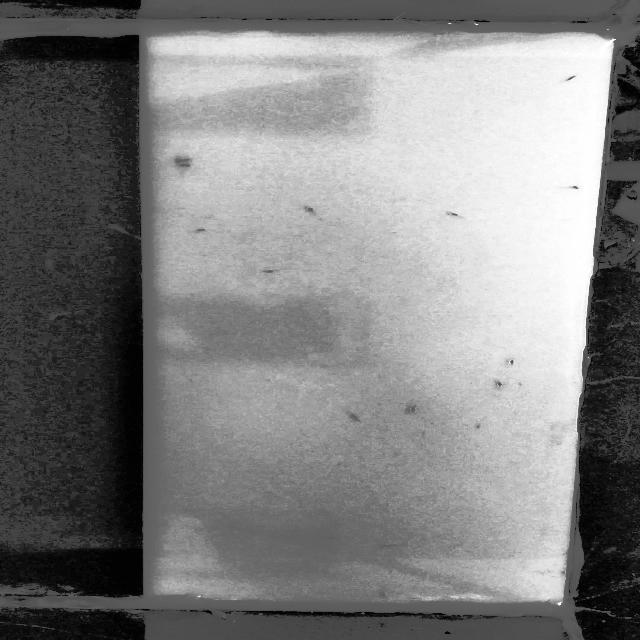shrimp: (367, 582, 398, 603), (543, 72, 587, 86), (316, 533, 352, 546), (347, 408, 372, 426), (501, 357, 527, 372), (486, 376, 510, 392), (168, 152, 200, 164), (298, 202, 325, 215), (378, 540, 411, 550), (187, 227, 226, 235), (173, 162, 202, 172), (466, 421, 487, 434), (553, 182, 583, 191), (260, 269, 289, 278), (404, 401, 418, 419), (438, 211, 464, 219)
